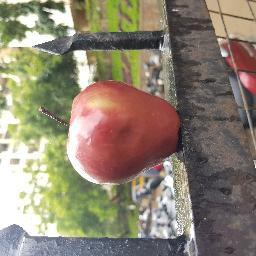Good_apple: (68, 76, 181, 179)
